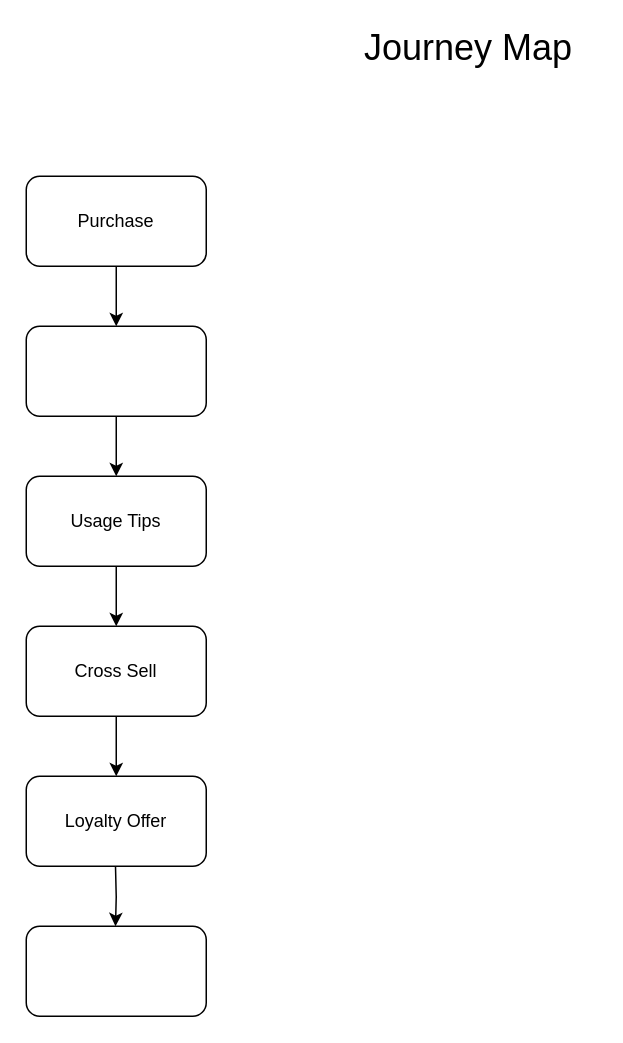
This 623x1043 diagram has some shape labels left out. Each missing label, with the centre of its shape:
"Confirmation email" goes at [115,370].
"Win Back Campaign" goes at [115,970].
